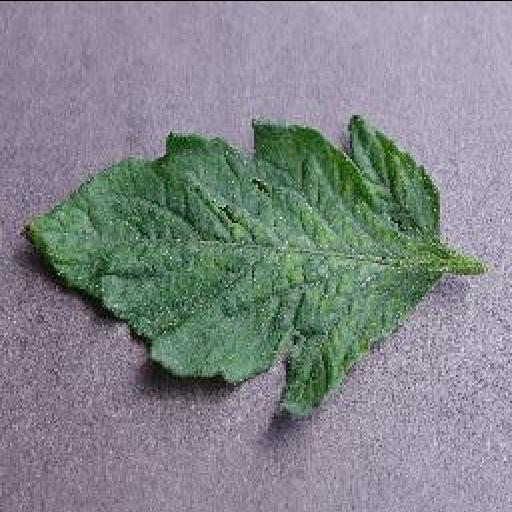Mosaic Virus: (22, 114, 444, 420)
